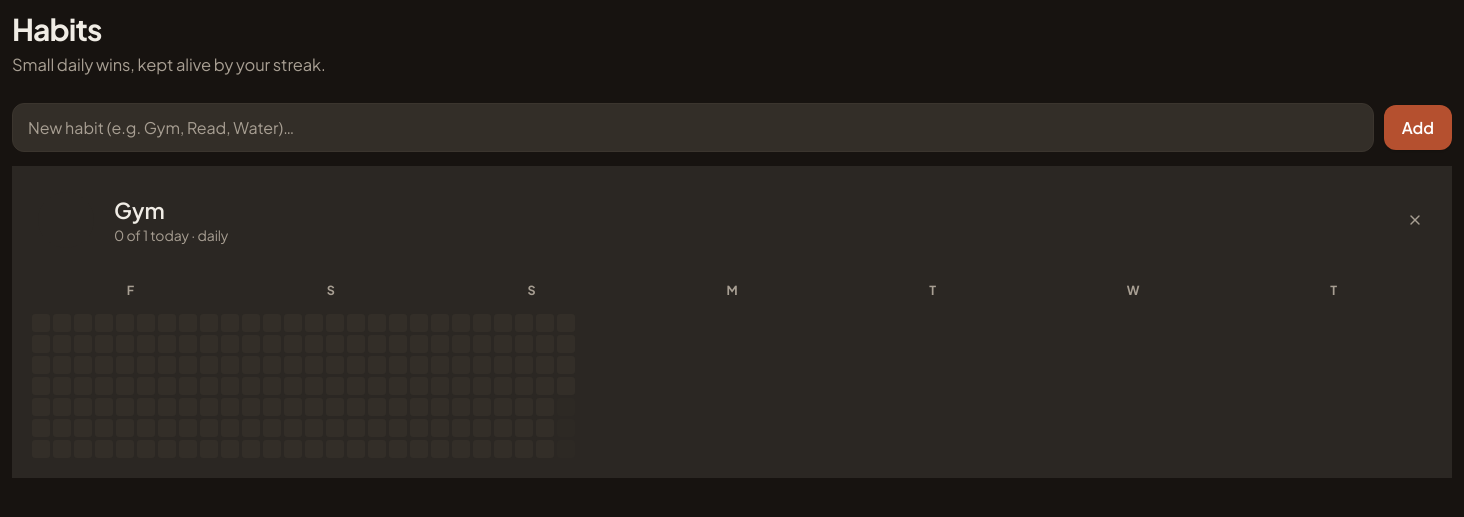
it: duplicate habit names › the same submit repeated goes through — a warning, not a block
The width and height of the screenshot is (1464, 517).
Expected: the button named "Edit habit \"Gym\"" is shown, [114,196,165,224]
In the field named "New habit name": {"x": 693, "y": 127} [12,102,1374,152], type "gym"
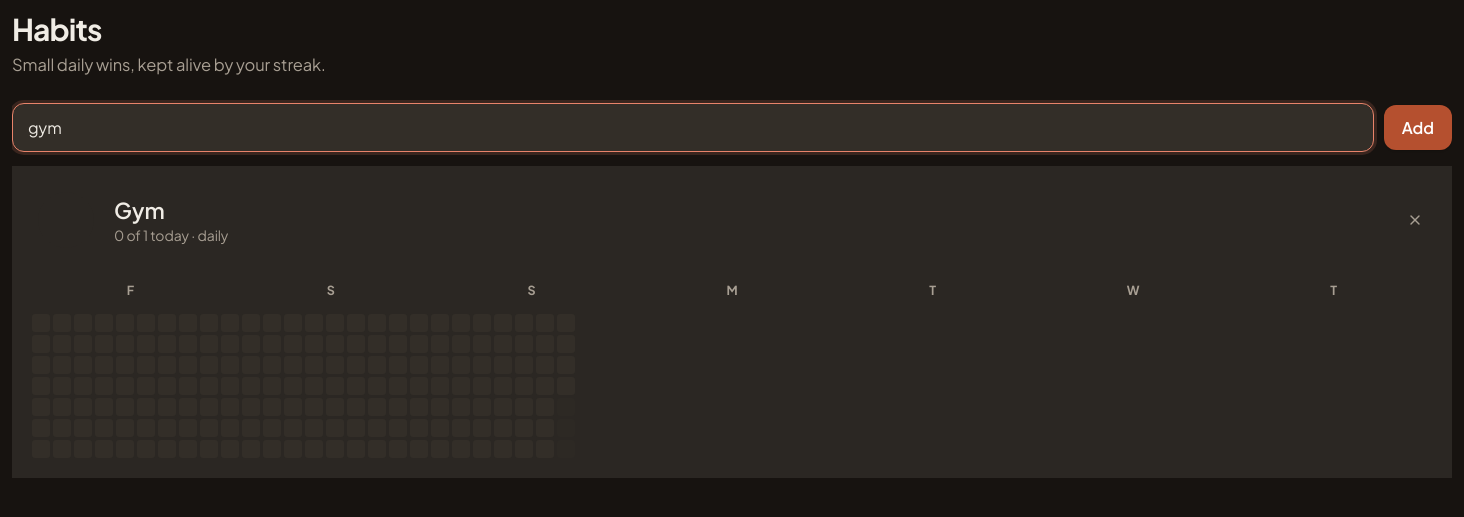
Click the button "Add": {"x": 1418, "y": 127} [1384,104,1452,150]
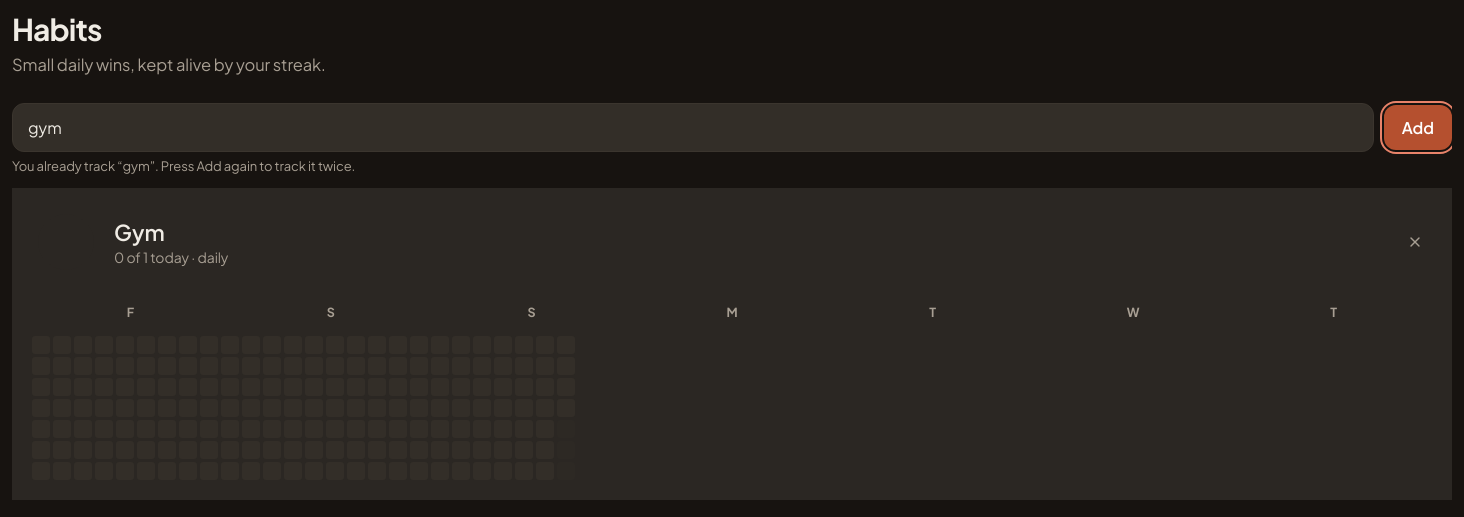
Now the message "You already track “gym”. Press Add again to track it twice." is shown, box [12,158,355,174]
Click the button "Add": {"x": 1418, "y": 127} [1384,104,1452,150]
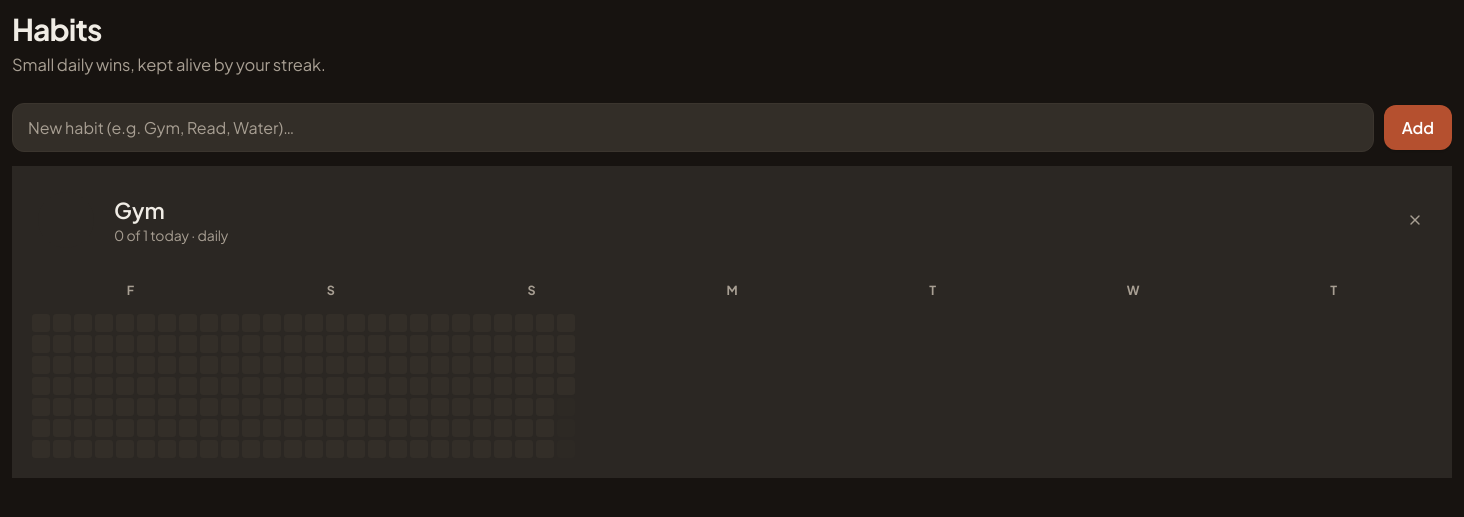
Now the message "You already track “gym”. Press Add again to track it twice." is gone
